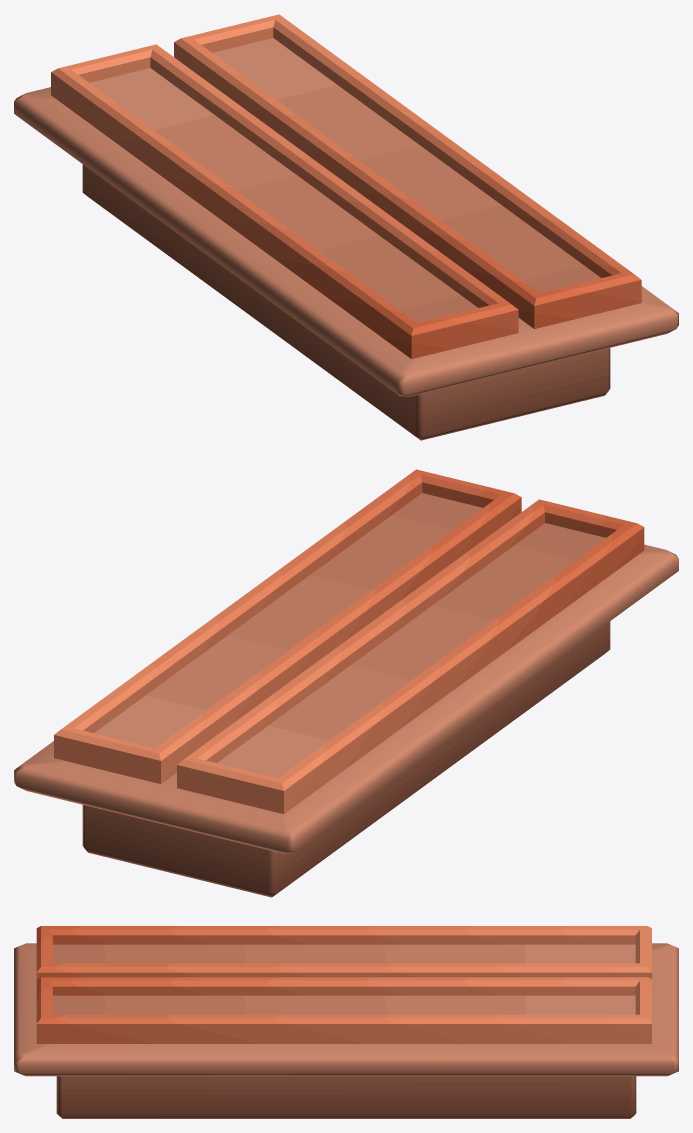
File: SM_Table_03.fbx
3 views of the same model, one above another, from view 1: azimuth 30°, elevation 25°; view 2: azimuth 150°, elevation 25°; view 3: azimuth 270°, elevation 25° (orthographic). The views are drawn at different scales.
Visible parts, largest first — view 1: SM_Table_03; view 2: SM_Table_03; view 3: SM_Table_03.
Boxes of the visible parts, x1=… form: SM_Table_03: x1=14, y1=14, x2=678, y2=440; SM_Table_03: x1=14, y1=469, x2=678, y2=897; SM_Table_03: x1=14, y1=926, x2=678, y2=1118.
Bounding box in the file's own units: 205 × 87.74 × 490.
Materials: 1 (1 with a texture image).
